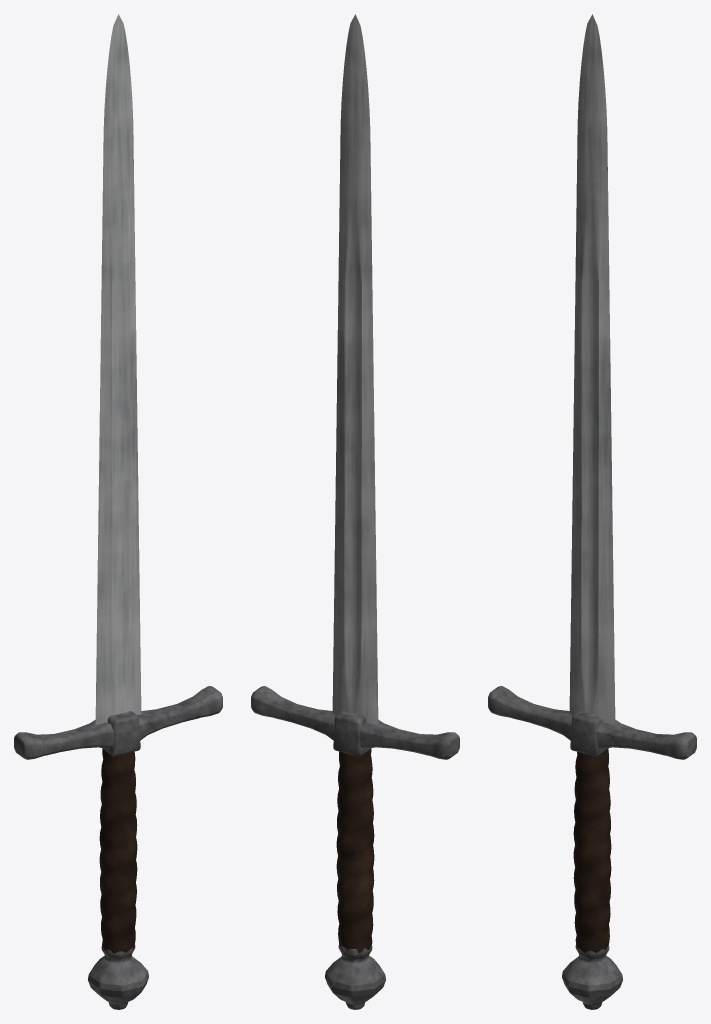
Rendered from StarterLongsword.fbx.
3 views of the same model, side by side, from view 1: azimuth 30°, elevation 25°; view 2: azimuth 150°, elevation 25°; view 3: azimuth 330°, elevation 25° (orthographic).
Parts seen in each view (by area): view 1: Blade, Grip, Guard, Pommel; view 2: Blade, Grip, Guard, Pommel; view 3: Blade, Grip, Guard, Pommel.
Part boxes in pixels (x1,y1,x2,y2): Blade: (95,14,141,725); Grip: (99,749,137,953); Guard: (14,686,222,759); Pommel: (88,944,148,1009); Blade: (332,14,378,725); Grip: (336,749,374,953); Guard: (251,686,459,759); Pommel: (325,943,385,1009); Blade: (569,14,615,725); Grip: (573,749,611,952); Guard: (488,686,696,759); Pommel: (562,943,622,1009).
Bounding box in the file's own units: 0.97 × 4.64 × 0.2439.
Materials: 1 (1 with a texture image).
